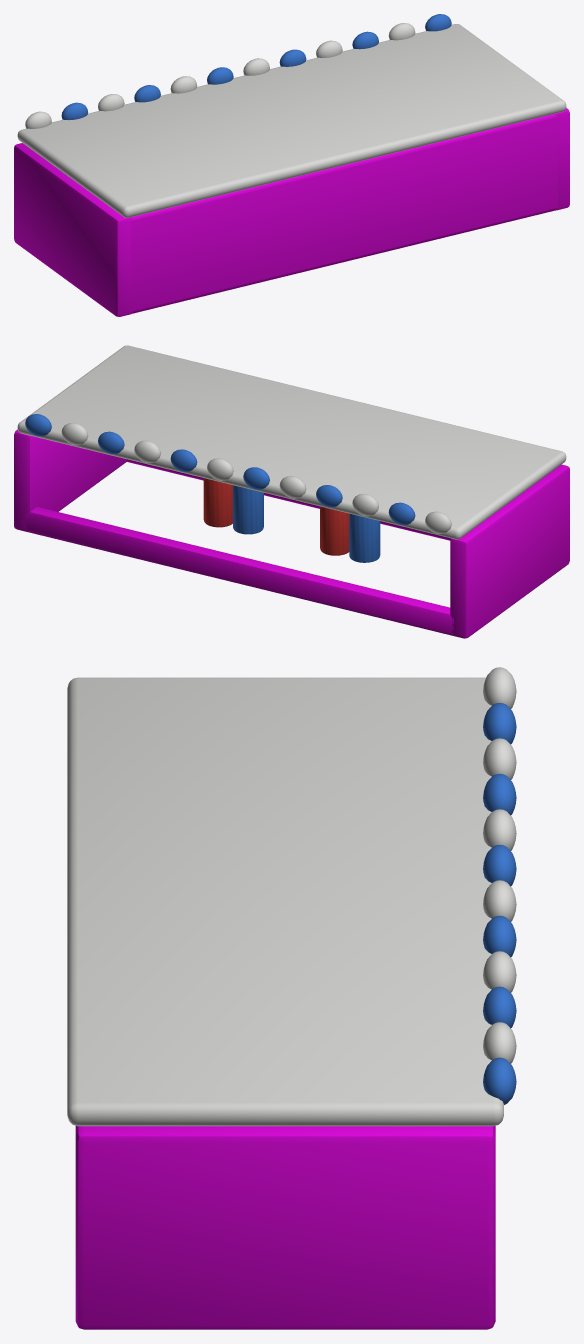
The model's file is Poi_CarWash.fbx.
3 renders of one model, top to bottom at view 1: azimuth 30°, elevation 25°; view 2: azimuth 150°, elevation 25°; view 3: azimuth 270°, elevation 25°, orthographic. The views are drawn at different scales.
Visible parts, largest first — view 1: Poi_CarWash; view 2: Poi_CarWash; view 3: Poi_CarWash.
Part boxes in pixels (left/top/right/bottom): Poi_CarWash: left=14, top=14, right=569, bottom=316; Poi_CarWash: left=14, top=345, right=569, bottom=638; Poi_CarWash: left=67, top=667, right=516, bottom=1329.
Bounding box in the file's own units: 25 × 6.45 × 10.7.
